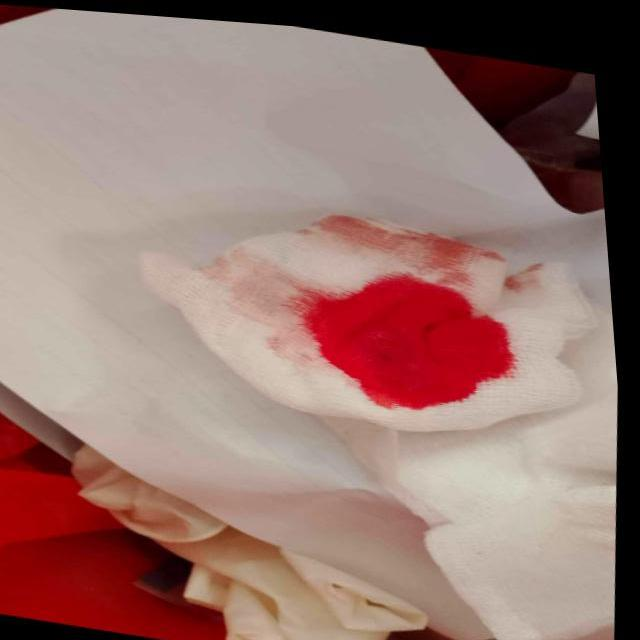General: (0, 5, 620, 639)
Infectious: (136, 213, 597, 434)
